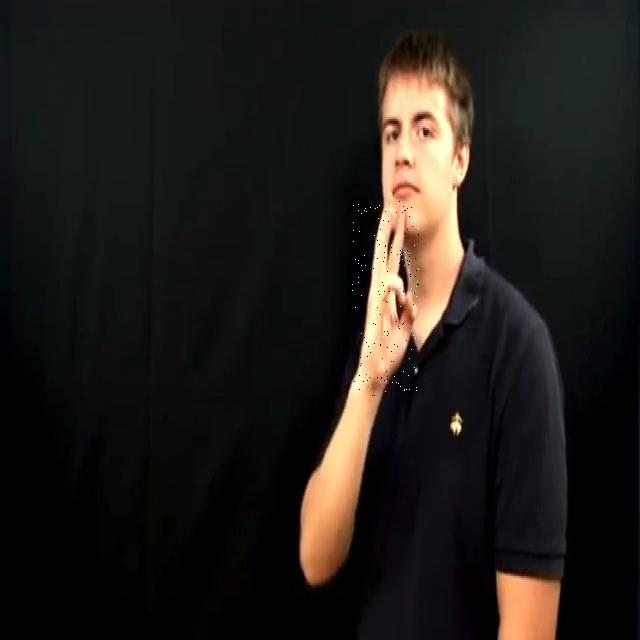water: (352, 200, 419, 396)
